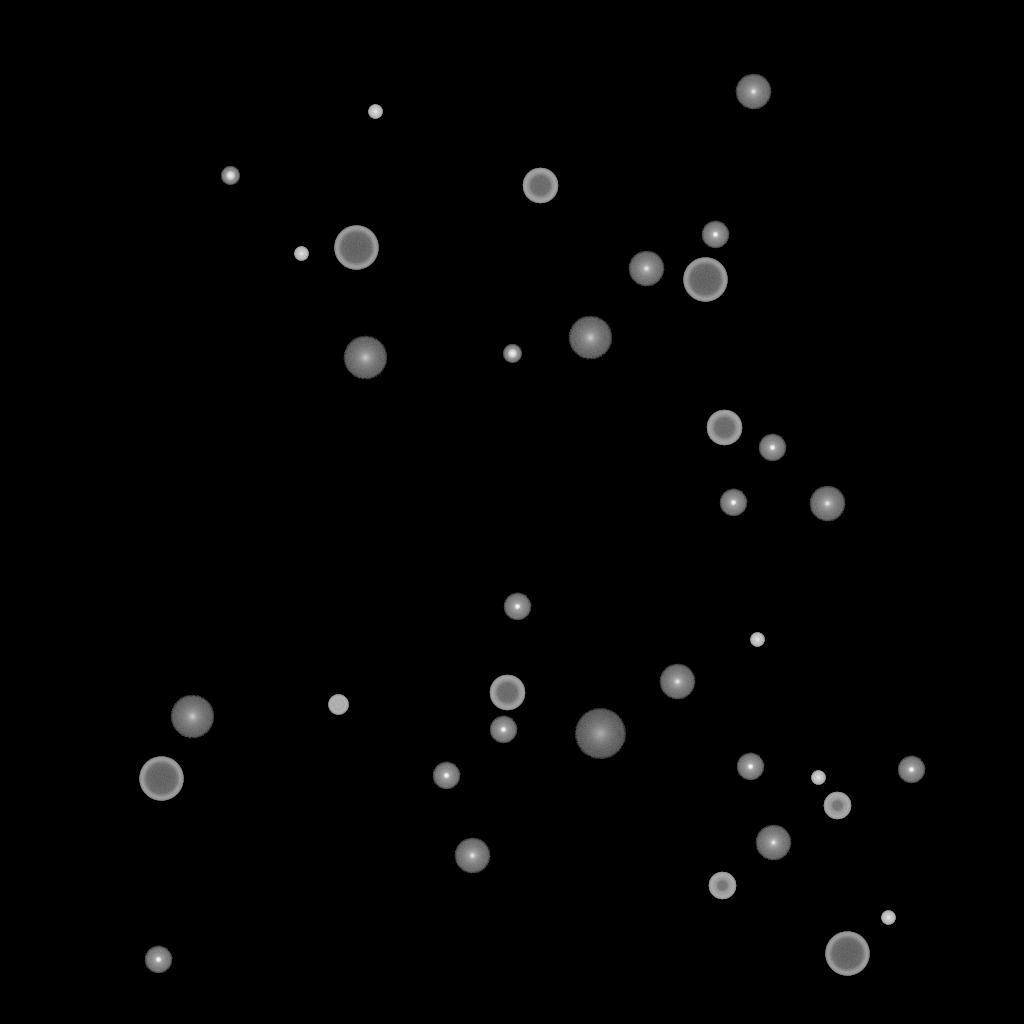depth:-10: (503, 593, 531, 621), (758, 434, 786, 462), (736, 753, 764, 781), (701, 221, 729, 249), (897, 756, 925, 784), (719, 489, 747, 517), (489, 716, 517, 744), (144, 946, 172, 974), (432, 762, 460, 790)
depth:-20: (503, 345, 521, 363), (221, 167, 239, 185)
depth:-30: (294, 247, 308, 261), (811, 771, 825, 785), (881, 911, 895, 925), (368, 105, 382, 119), (750, 633, 764, 647)
depth:-40: (328, 695, 348, 715)
depth:-50: (708, 872, 736, 900), (823, 792, 851, 820)
depth:-60: (489, 675, 525, 711), (706, 410, 742, 446), (522, 168, 558, 204)
depth:-70: (139, 757, 183, 801), (825, 932, 869, 976), (334, 226, 378, 270), (683, 258, 727, 302)
depth:0: (809, 486, 845, 522), (755, 825, 791, 861), (628, 251, 664, 287), (659, 664, 695, 700), (735, 74, 771, 110), (454, 838, 490, 874)
depth:10: (343, 336, 387, 380), (170, 695, 214, 739), (568, 316, 612, 360)
depth:20: (574, 709, 626, 759)
